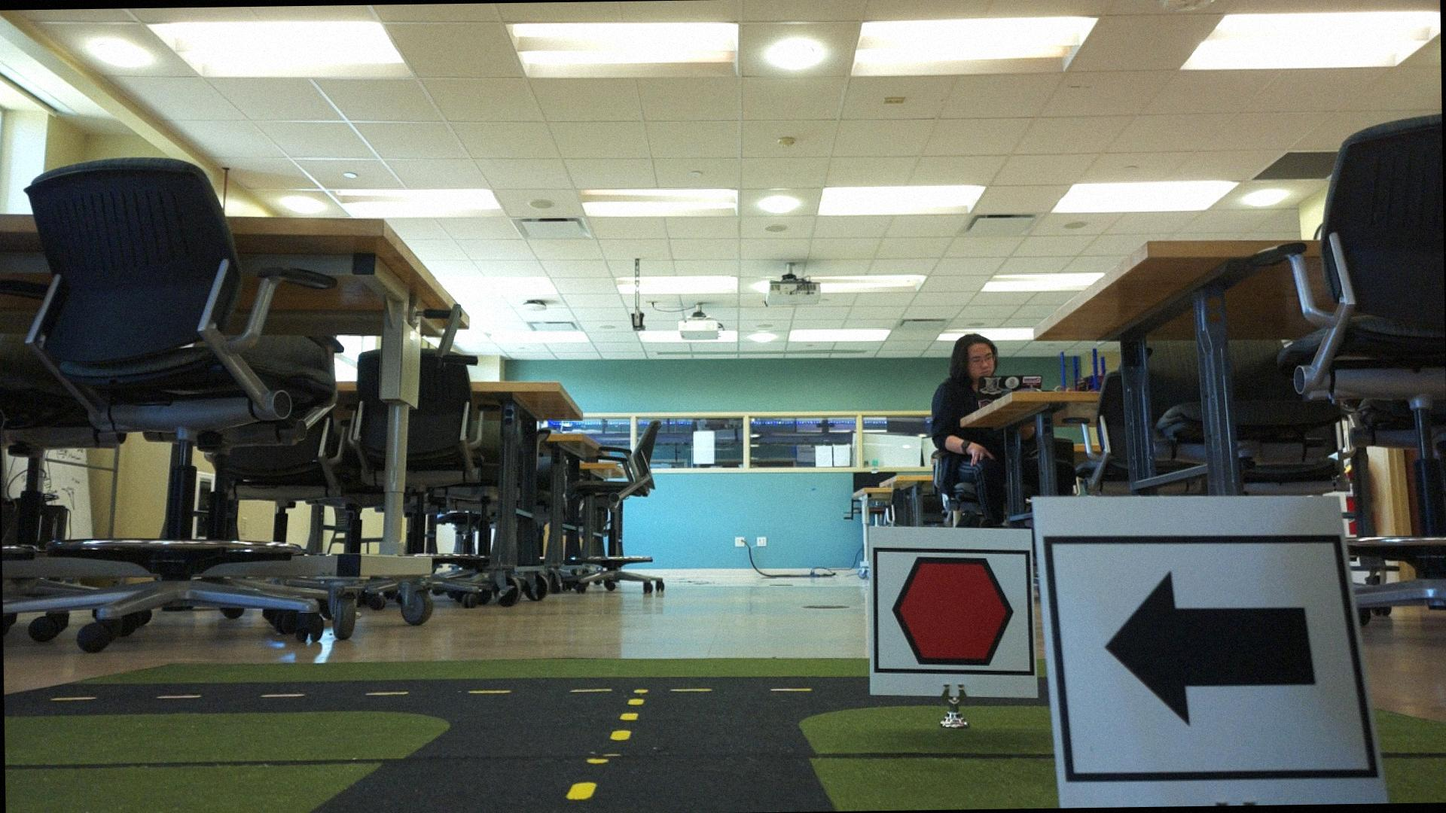stop: (876, 550, 1029, 673)
turnright: (1056, 536, 1346, 787)
yellowline: (567, 696, 645, 803)
